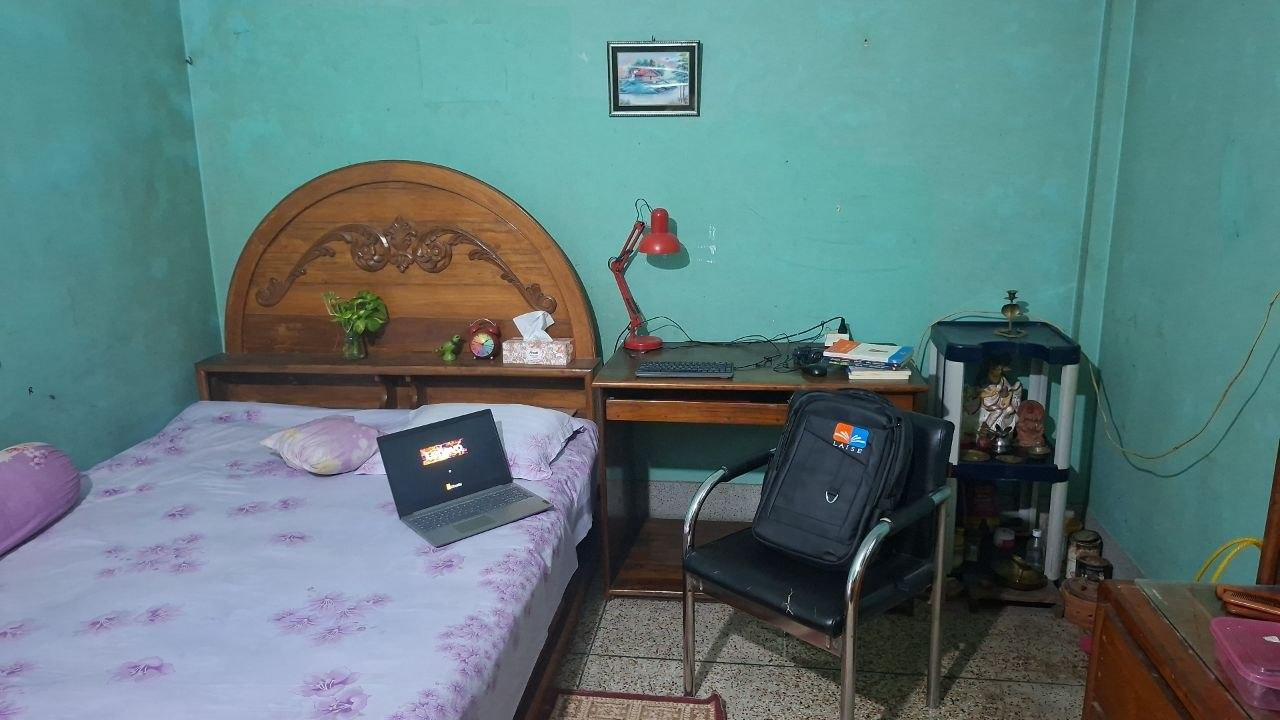Bag: (728, 375, 946, 622)
Book: (837, 339, 917, 383)
Box: (496, 329, 584, 370)
Chair: (678, 393, 965, 720)
Clock: (460, 318, 507, 364)
Keyboard: (659, 360, 783, 385)
Laptop: (379, 406, 567, 553)
Mouse: (791, 354, 839, 389)
Photo: (607, 44, 699, 121)
Pillow: (383, 402, 580, 477), (239, 400, 398, 481), (0, 437, 94, 573)
Plant: (322, 293, 387, 366)
Table Lamp: (603, 188, 687, 370)
